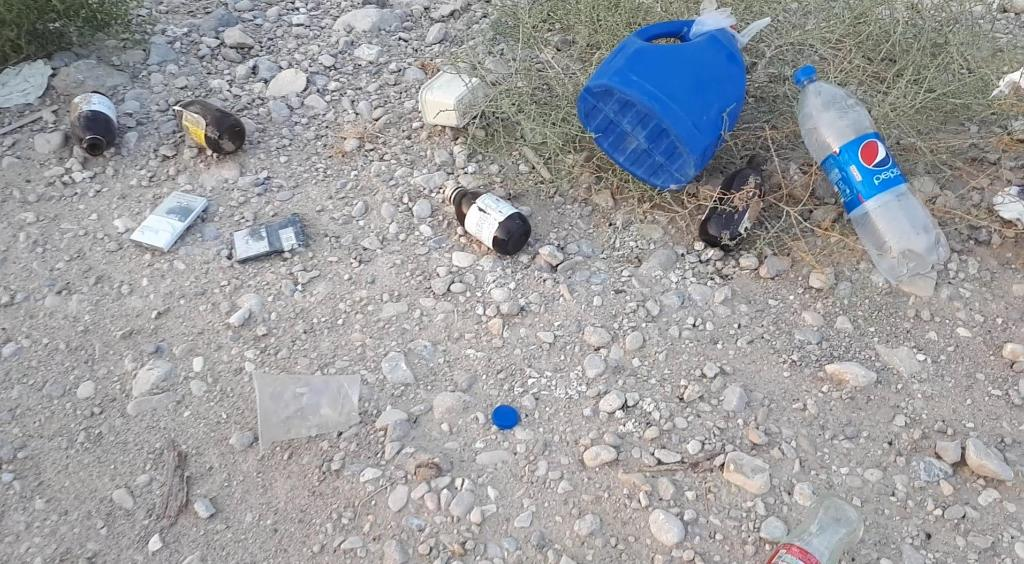garbage: (793, 64, 950, 284), (577, 18, 746, 191), (765, 492, 864, 564), (699, 154, 768, 252), (444, 183, 531, 255), (172, 98, 246, 155), (70, 91, 117, 156)
